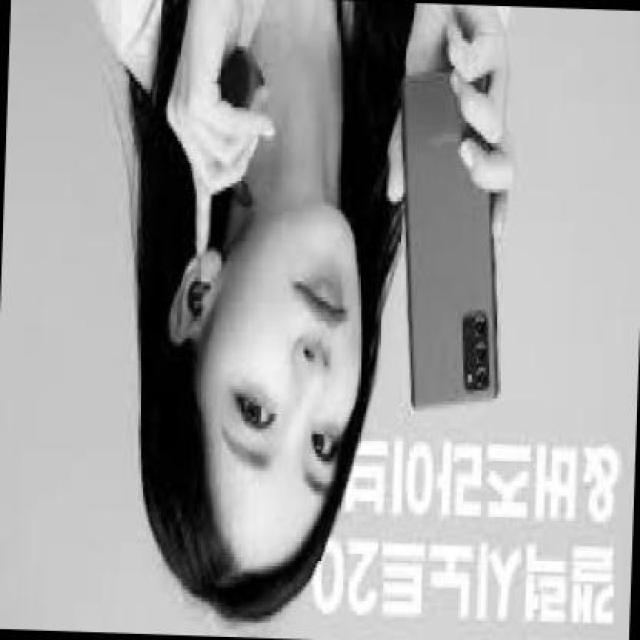earphone: (176, 252, 219, 318)
smart phone: (396, 65, 514, 428)
